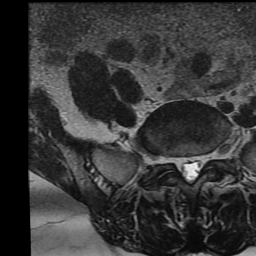CCS_normal: (185, 144, 194, 192)
LFS_normal: (203, 141, 214, 170)
LLS_normal: (194, 146, 203, 184)
RFS_stenosis: (166, 144, 176, 173)
RLS_normal: (176, 144, 184, 183)
